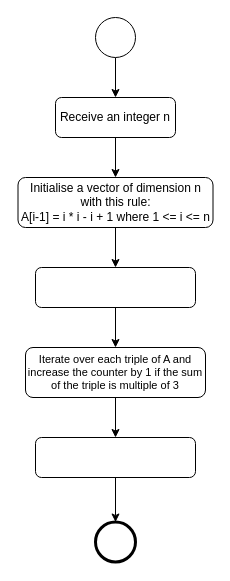
Image size: 230x581. Some labels were removed from this diagram. The centre of each missing label's shape, as x and y in pixels:
"Initialise a counter equal to 0" goes at [115,287].
"Return the counter" goes at [115,457].
